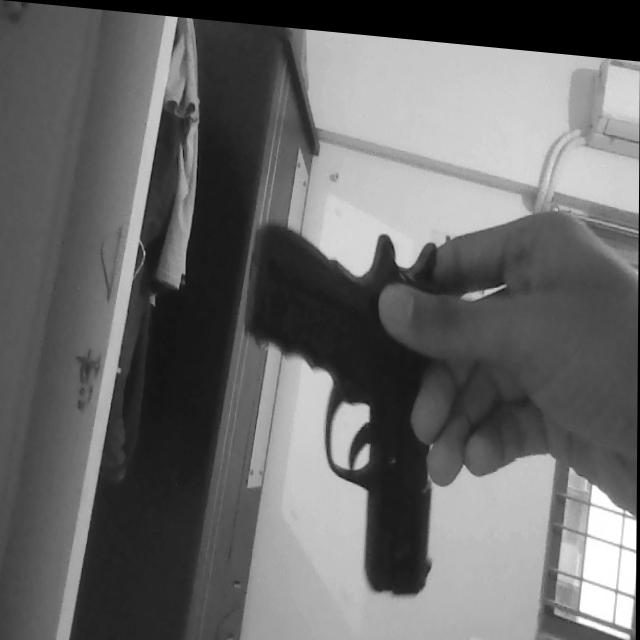handgun: (243, 209, 441, 596)
